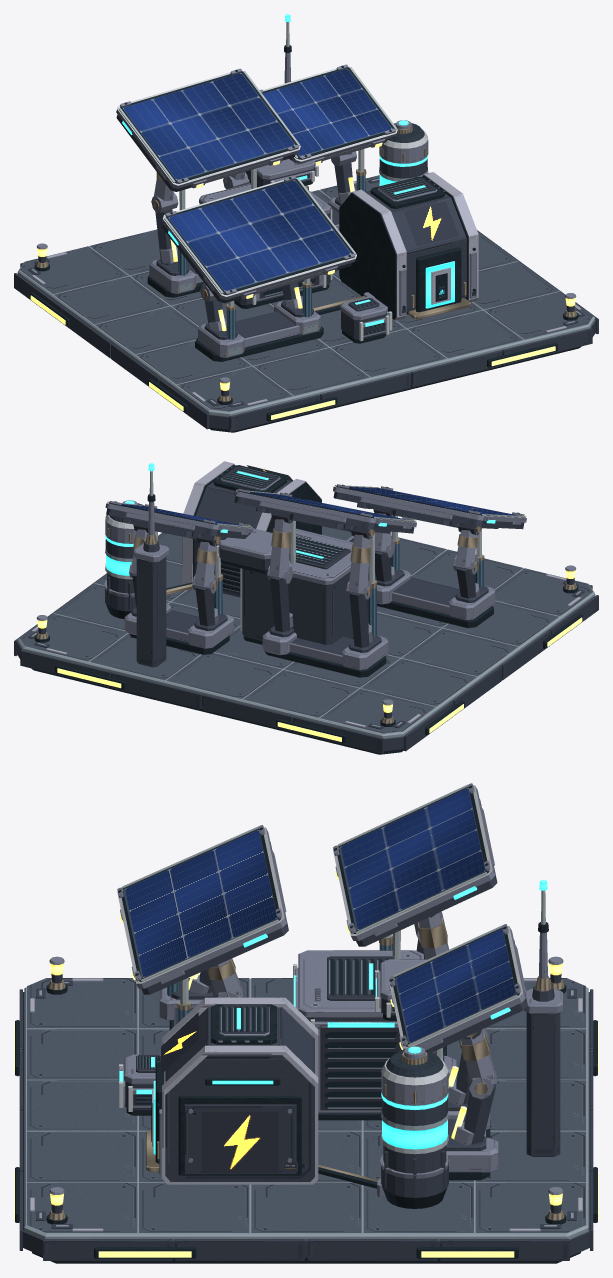
Rendered from PS02_PlantaSolarModular.fbx.
The picture shows the model from 3 angles, top to bottom: view 1: azimuth 30°, elevation 25°; view 2: azimuth 150°, elevation 25°; view 3: azimuth 270°, elevation 25°; orthographic projection. The views are drawn at different scales.
Visible parts, largest first — view 1: PlantaSolar_2; view 2: PlantaSolar_2; view 3: PlantaSolar_2.
Part boxes in pixels (x1,y1,x2,y2): PlantaSolar_2: (14, 14, 598, 432); PlantaSolar_2: (14, 461, 598, 754); PlantaSolar_2: (14, 783, 598, 1263).
Bounding box in the file's own units: 6.56 × 3.49 × 6.1.
